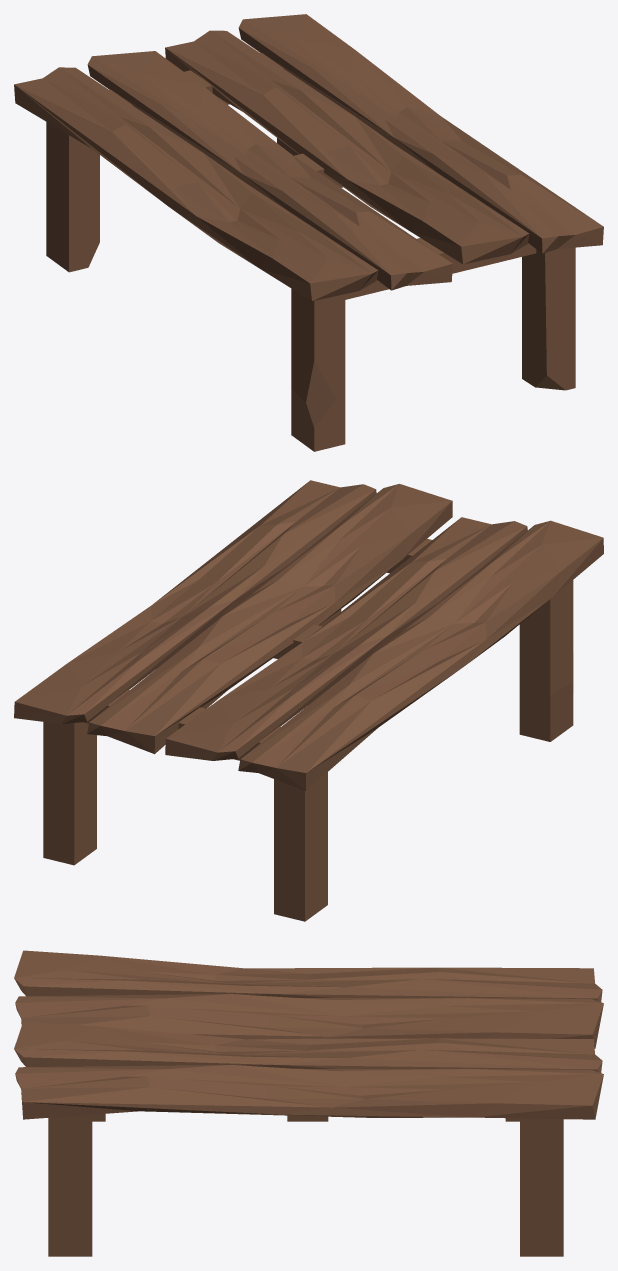
The model's file is SM_table.fbx.
The picture shows the model from 3 angles, top to bottom: view 1: azimuth 30°, elevation 25°; view 2: azimuth 150°, elevation 25°; view 3: azimuth 270°, elevation 25°; orthographic projection. The views are drawn at different scales.
Visible parts, largest first — view 1: table; view 2: table; view 3: table.
Part boxes in pixels (left/top/right/bottom): table: left=14, top=14, right=603, bottom=451; table: left=14, top=480, right=603, bottom=921; table: left=14, top=950, right=603, bottom=1256.
Size of the model in its own units: 159 by 94.2 by 288.
